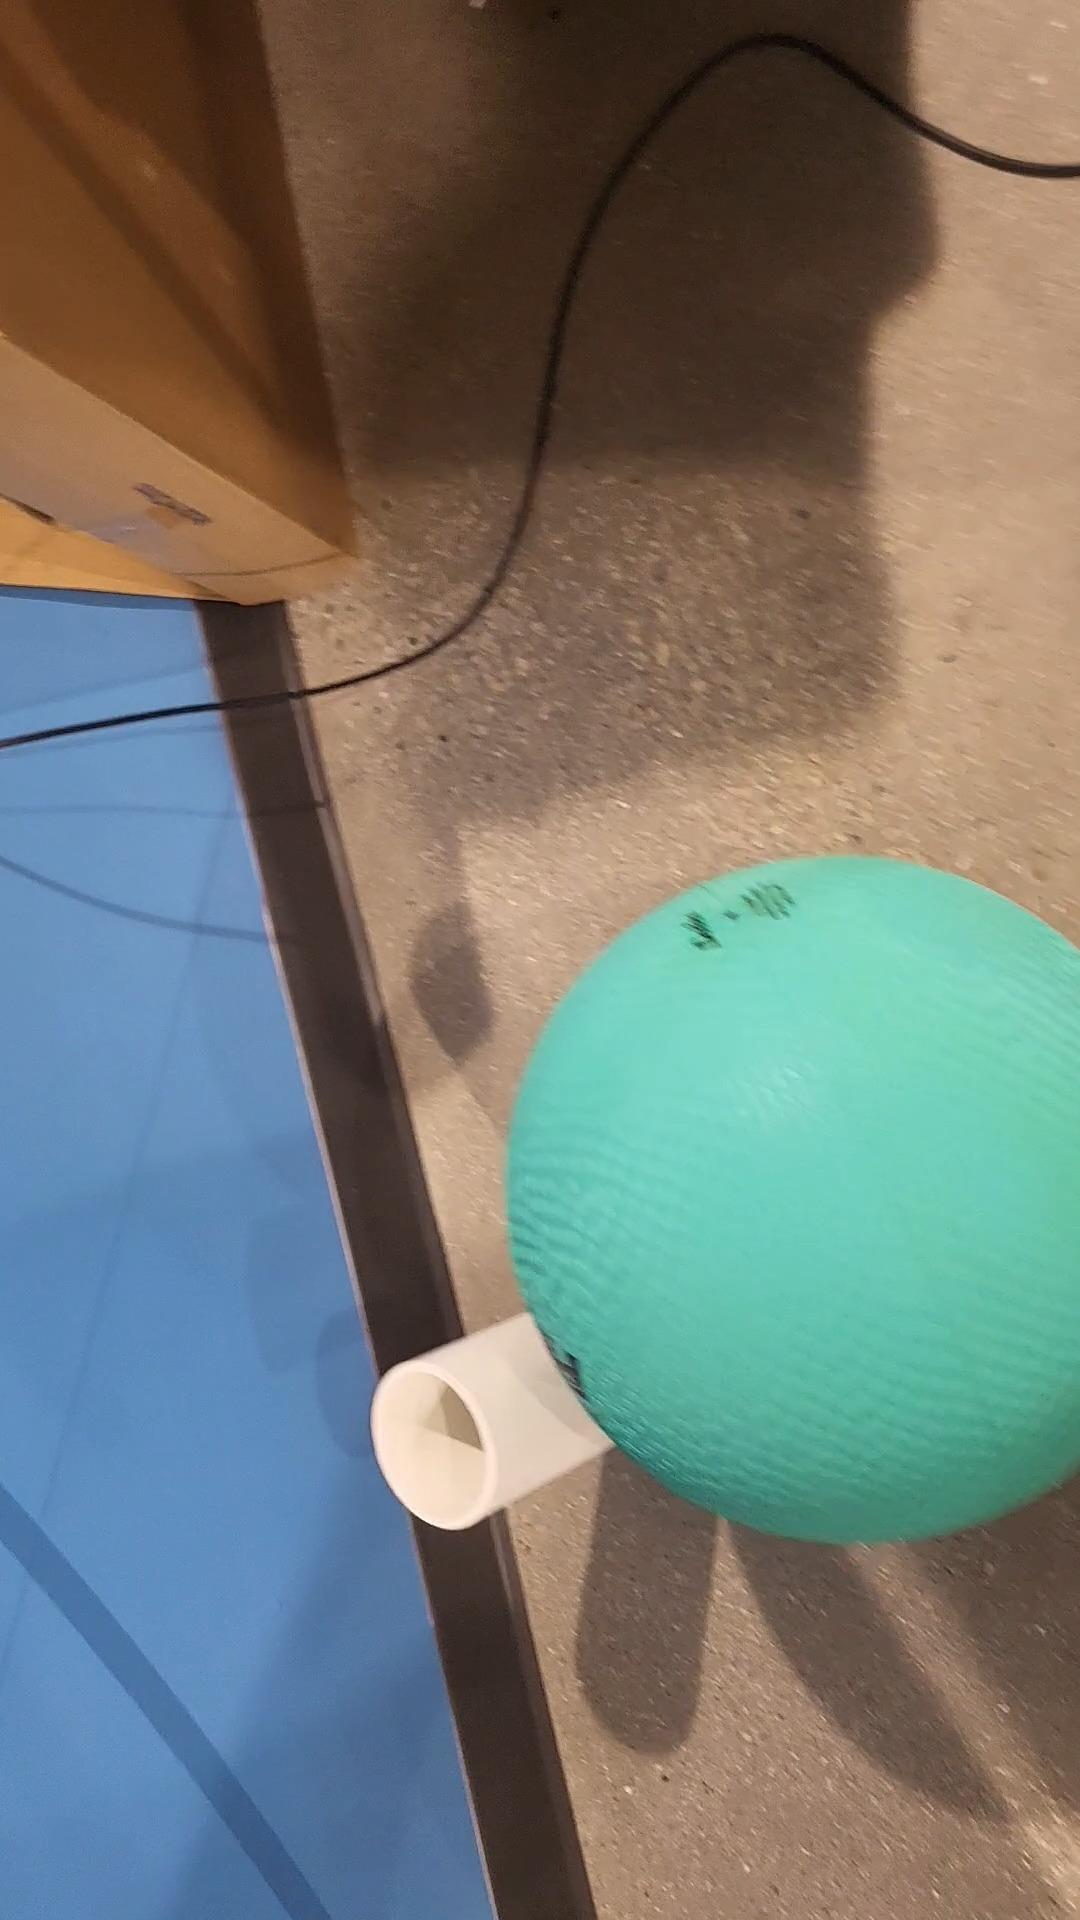algae: (505, 855, 1080, 1545)
coral: (375, 1309, 615, 1530)
